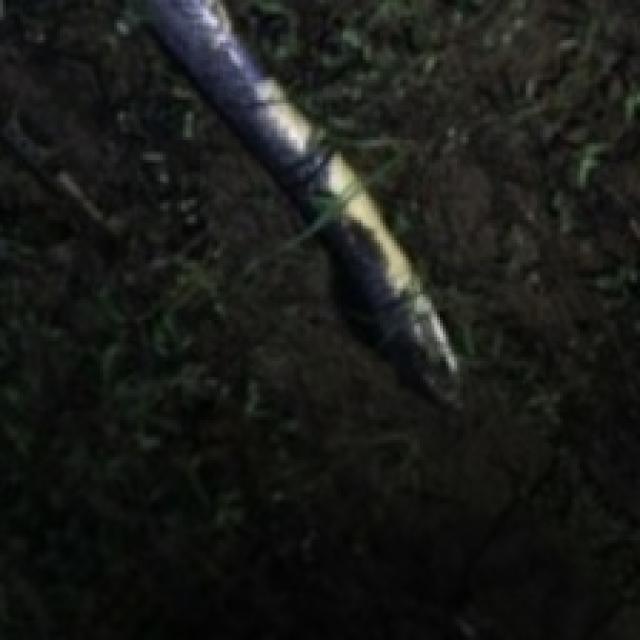king cobra: (137, 0, 454, 406)
